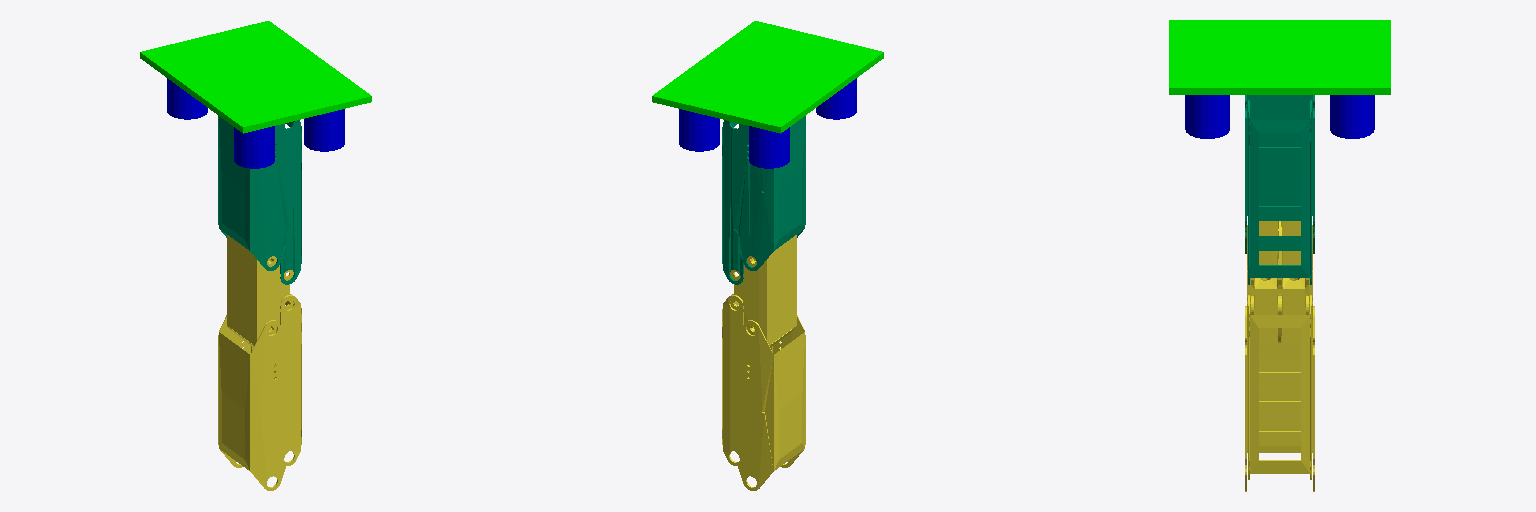
URDF robot description (AeroLowerRobot):
<?xml version="1.0"?>
<robot name="AeroLowerRobot"
       xmlns:xi="http://www.w3.org/2001/XInclude"
       xmlns:gazebo="http://playerstage.sourceforge.net/gazebo/xmlschema/#gz"
       xmlns:model="http://playerstage.sourceforge.net/gazebo/xmlschema/#model"
       xmlns:sensor="http://playerstage.sourceforge.net/gazebo/xmlschema/#sensor"
       xmlns:body="http://playerstage.sourceforge.net/gazebo/xmlschema/#body"
       xmlns:geom="http://playerstage.sourceforge.net/gazebo/xmlschema/#geom"
       xmlns:joint="http://playerstage.sourceforge.net/gazebo/xmlschema/#joint"
       xmlns:interface="http://playerstage.sourceforge.net/gazebo/xmlschema/#interface"
       xmlns:rendering="http://playerstage.sourceforge.net/gazebo/xmlschema/#rendering"
       xmlns:renderable="http://playerstage.sourceforge.net/gazebo/xmlschema/#renderable"
       xmlns:controller="http://playerstage.sourceforge.net/gazebo/xmlschema/#controller"
       xmlns:physics="http://playerstage.sourceforge.net/gazebo/xmlschema/#physics">
  <link name="WAIST_LINK0">
    <visual>
      <origin xyz="0 0 0.7235" rpy="0 -0 0"/>
      <geometry>
        <mesh filename="package://aero_description/models/aero-lower_meshes/WAIST_LINK0_mesh.dae" scale="1 1 1" />
      </geometry>
    </visual>
    <collision>
      <origin xyz="0 0 0.7235" rpy="0 -0 0"/>
      <geometry>
        <mesh filename="package://aero_description/models/aero-lower_meshes/WAIST_LINK0_mesh.dae" scale="1 1 1" />
      </geometry>
    </collision>
    <inertial>
      <mass value="0" />
      <origin xyz="0 0 0" rpy="0 -0 0"/>
      <inertia ixx="0" ixy="0" ixz="0" iyy="0" iyz="0" izz="0"/>
    </inertial>
  </link>
  <gazebo reference="WAIST_LINK0">
    <mu1>0.9</mu1>
    <mu2>0.9</mu2>
  </gazebo>
  <link name="WAIST_LINK1">
    <visual>
      <origin xyz="0 0 0" rpy="0 -0 0"/>
      <geometry>
        <mesh filename="package://aero_description/models/aero-lower_meshes/WAIST_LINK1_mesh.dae" scale="1 1 1" />
      </geometry>
    </visual>
    <collision>
      <origin xyz="0 0 0" rpy="0 -0 0"/>
      <geometry>
        <mesh filename="package://aero_description/models/aero-lower_meshes/WAIST_LINK1_mesh.dae" scale="1 1 1" />
      </geometry>
    </collision>
    <inertial>
      <mass value="7.64604" />
      <origin xyz="-0.012819 -0.002679 0.007207" rpy="0 -0 0"/>
      <inertia ixx="0.0658136" ixy="-0.000159462" ixz="0.010103" iyy="0.0504268" iyz="0.000173435" izz="0.0889772"/>
    </inertial>
  </link>
  <gazebo reference="WAIST_LINK1">
    <mu1>0.9</mu1>
    <mu2>0.9</mu2>
  </gazebo>
  <link name="LEG_LINK1">
    <visual>
      <origin xyz="0.0 0.0 0.0" rpy="0 -0 0"/>
      <geometry>
        <mesh filename="package://aero_description/models/aero-lower_meshes/wheel_upper_mesh.dae" scale="1 1 1" />
      </geometry>
    </visual>
    <collision>
      <origin xyz="0.0 0.0 0.0" rpy="0 -0 0"/>
      <geometry>
        <mesh filename="package://aero_description/models/aero-lower_meshes/wheel_upper_mesh.dae" scale="1 1 1" />
      </geometry>
    </collision>
    <inertial>
      <mass value="2.62321" />
      <origin xyz="0.0587169 0 -0.135292" rpy="0 -0 0"/>
      <inertia ixx="0.0161595" ixy="-9.27234e-05" ixz="0.00262839" iyy="0.0166415" iyz="-0.00017447" izz="0.00477281"/>
    </inertial>
  </link>
  <gazebo reference="LEG_LINK1">
    <mu1>0.9</mu1>
    <mu2>0.9</mu2>
  </gazebo>
  <link name="LEG_LINK2">
    <visual>
      <origin xyz="0.0 0.0 0.0" rpy="0 -0 0"/>
      <geometry>
        <mesh filename="package://aero_description/models/aero-lower_meshes/wheel_lower_mesh.dae" scale="1 1 1" />
      </geometry>
    </visual>
    <collision>
      <origin xyz="0.0 0.0 0.0" rpy="0 -0 0"/>
      <geometry>
        <mesh filename="package://aero_description/models/aero-lower_meshes/wheel_lower_mesh.dae" scale="1 1 1" />
      </geometry>
    </collision>
    <inertial>
      <mass value="2.06679" />
      <origin xyz="0.081713 0.000812 -0.146934" rpy="0 -0 0"/>
      <inertia ixx="0.0408818" ixy="-9.39301e-06" ixz="-0.000750165" iyy="0.0403969" iyz="-0.000120419" izz="0.00260982"/>
    </inertial>
  </link>
  <gazebo reference="LEG_LINK2">
    <mu1>0.9</mu1>
    <mu2>0.9</mu2>
  </gazebo>

  <joint name="WAIST_Y" type="continuous">
    <parent link="WAIST_LINK0"/>
    <child  link="WAIST_LINK1"/>
    <origin xyz="0 0 0" rpy="0 -0 0 "/>
    <axis   xyz="0 0 1"/>
    <limit lower="-3.14159" upper="3.14159" effort="100" velocity="0.5" />
    <dynamics damping="0.2" friction="0" />
  </joint>
  <transmission type="pr2_mechanism_model/SimpleTransmission" name="WAIST_Y_trans" >
    <actuator name="WAIST_Y_motor" />
    <joint name="WAIST_Y" />
    <mechanicalReduction>1</mechanicalReduction>
  </transmission>
  <gazebo reference="WAIST_Y">
    <cfmDamping>0.4</cfmDamping>
  </gazebo>
  <joint name="LEG_HIP" type="revolute">
    <parent link="WAIST_LINK1"/>
    <child  link="LEG_LINK1"/>
    <origin xyz="0.01591 0.0 -0.05" rpy="0 -0 0 "/>
    <axis   xyz="0 -1 0"/>
    <limit lower="0" upper="1.5708" effort="100" velocity="0.5" />
    <dynamics damping="0.2" friction="0" />
  </joint>
  <transmission type="pr2_mechanism_model/SimpleTransmission" name="LEG_HIP_trans" >
    <actuator name="LEG_HIP_motor" />
    <joint name="LEG_HIP" />
    <mechanicalReduction>1</mechanicalReduction>
  </transmission>
  <gazebo reference="LEG_HIP">
    <cfmDamping>0.4</cfmDamping>
  </gazebo>
  <joint name="LEG_KNEE" type="revolute">
    <parent link="LEG_LINK1"/>
    <child  link="LEG_LINK2"/>
    <origin xyz="0.0 0.0 -0.29009" rpy="0 -0 0 "/>
    <axis   xyz="0 1 0"/>
    <limit lower="0" upper="1.5708" effort="100" velocity="0.5" />
    <dynamics damping="0.2" friction="0" />
  </joint>
  <transmission type="pr2_mechanism_model/SimpleTransmission" name="LEG_KNEE_trans" >
    <actuator name="LEG_KNEE_motor" />
    <joint name="LEG_KNEE" />
    <mechanicalReduction>1</mechanicalReduction>
  </transmission>
  <gazebo reference="LEG_KNEE">
    <cfmDamping>0.4</cfmDamping>
  </gazebo>

</robot>

--- Facts derived from the render (not from the file) ---
Views: 3 orthographic renders of the robot side by side, from view 1: azimuth 30°, elevation 25°; view 2: azimuth 150°, elevation 25°; view 3: azimuth 270°, elevation 25°.
Robot: AeroLowerRobot — 4 links, 3 joints (2 revolute, 1 continuous); root link WAIST_LINK0; default pose: every joint at zero.
Links seen in each view (by area): view 1: WAIST_LINK1, LEG_LINK2, LEG_LINK1; view 2: WAIST_LINK1, LEG_LINK2, LEG_LINK1; view 3: WAIST_LINK1, LEG_LINK2, LEG_LINK1.
Boxes of the visible links, bbox=[...] form: WAIST_LINK1: bbox=[140, 21, 371, 168]; LEG_LINK2: bbox=[218, 235, 301, 490]; LEG_LINK1: bbox=[218, 116, 301, 284]; WAIST_LINK1: bbox=[652, 21, 883, 168]; LEG_LINK2: bbox=[722, 235, 805, 490]; LEG_LINK1: bbox=[722, 116, 805, 284]; WAIST_LINK1: bbox=[1169, 20, 1390, 138]; LEG_LINK2: bbox=[1245, 221, 1314, 491]; LEG_LINK1: bbox=[1245, 95, 1314, 284].
Size in the robot's own frame: 0.222 by 0.3076 by 0.6661 metres.
Meshes: 4 distinct files referenced, 3 mesh visuals loaded (3 Collada DAE); not drawn: 1 (reference not matched to a file when rendering).